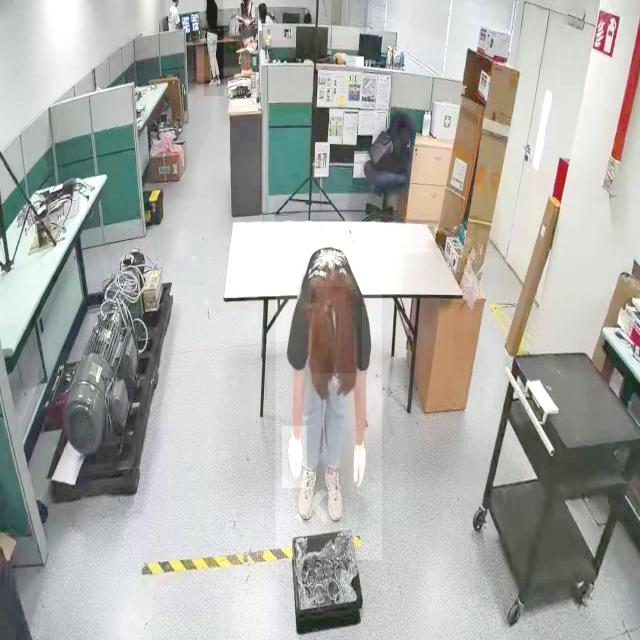hand_glove: (281, 426, 307, 489), (350, 431, 368, 498)
head_nohelmet: (310, 286, 362, 374)
person: (275, 235, 382, 561), (204, 0, 224, 97)
shoes: (322, 458, 348, 522), (296, 464, 320, 520), (207, 74, 222, 89)
